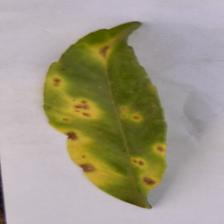canker: (40, 55, 187, 203)
